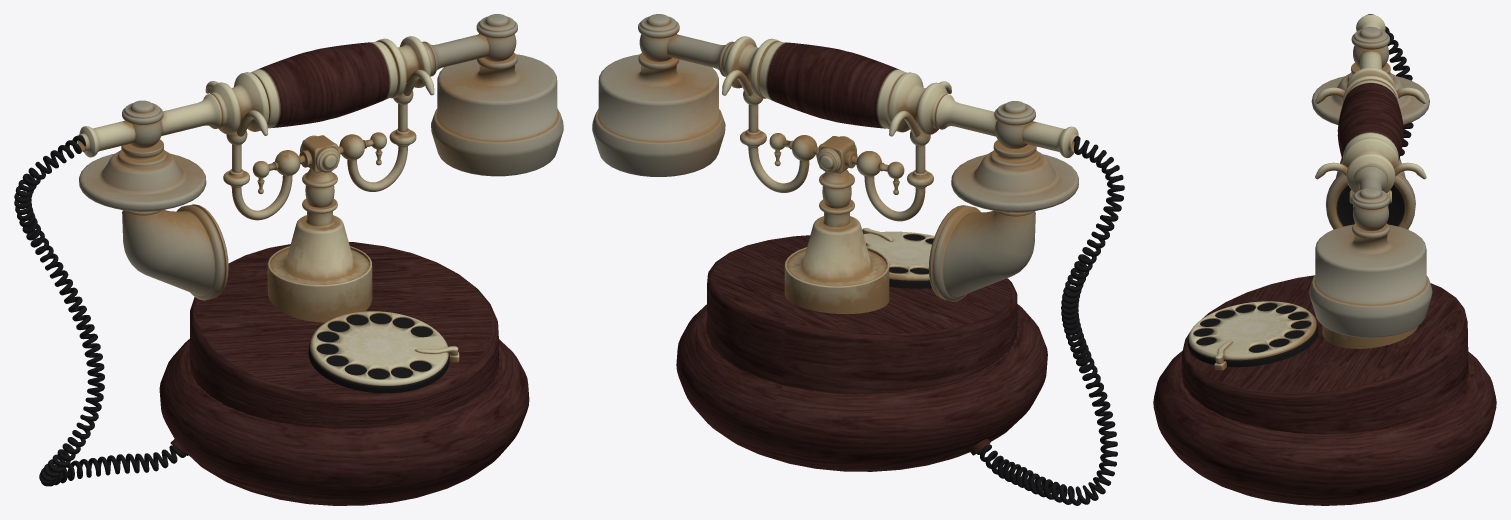
Rendered from phone.glb.
The picture shows the model from 3 angles, left to right: view 1: azimuth 30°, elevation 25°; view 2: azimuth 150°, elevation 25°; view 3: azimuth 270°, elevation 25°; orthographic projection. The views are drawn at different scales.
Parts seen in each view (by area): view 1: Vintage Phone; view 2: Vintage Phone; view 3: Vintage Phone.
Part boxes in pixels (x1,y1,x2,y2): Vintage Phone: (14, 14, 563, 505); Vintage Phone: (592, 14, 1124, 505); Vintage Phone: (1153, 14, 1496, 505).
Size of the model in its own units: 0.2545 by 0.175 by 0.1548.
Materials: 1 (1 with a texture image).
